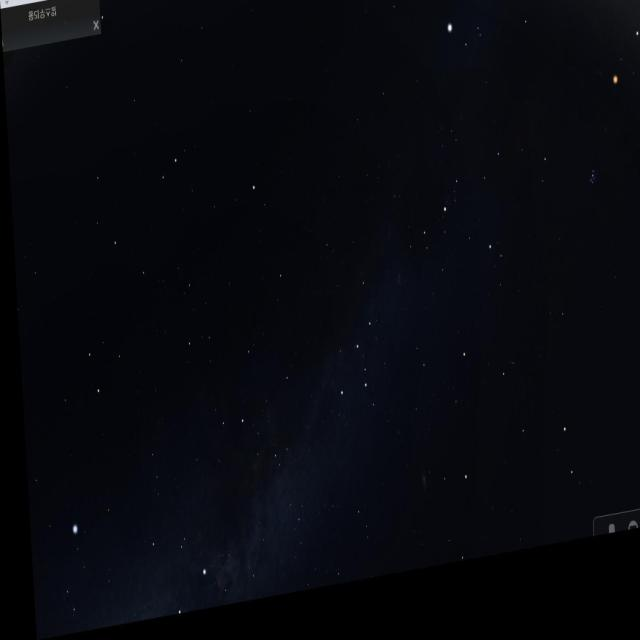cassiopeia: (320, 259, 402, 440)
pleiades: (576, 188, 596, 223)
